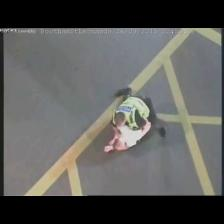person: (105, 88, 165, 151)
